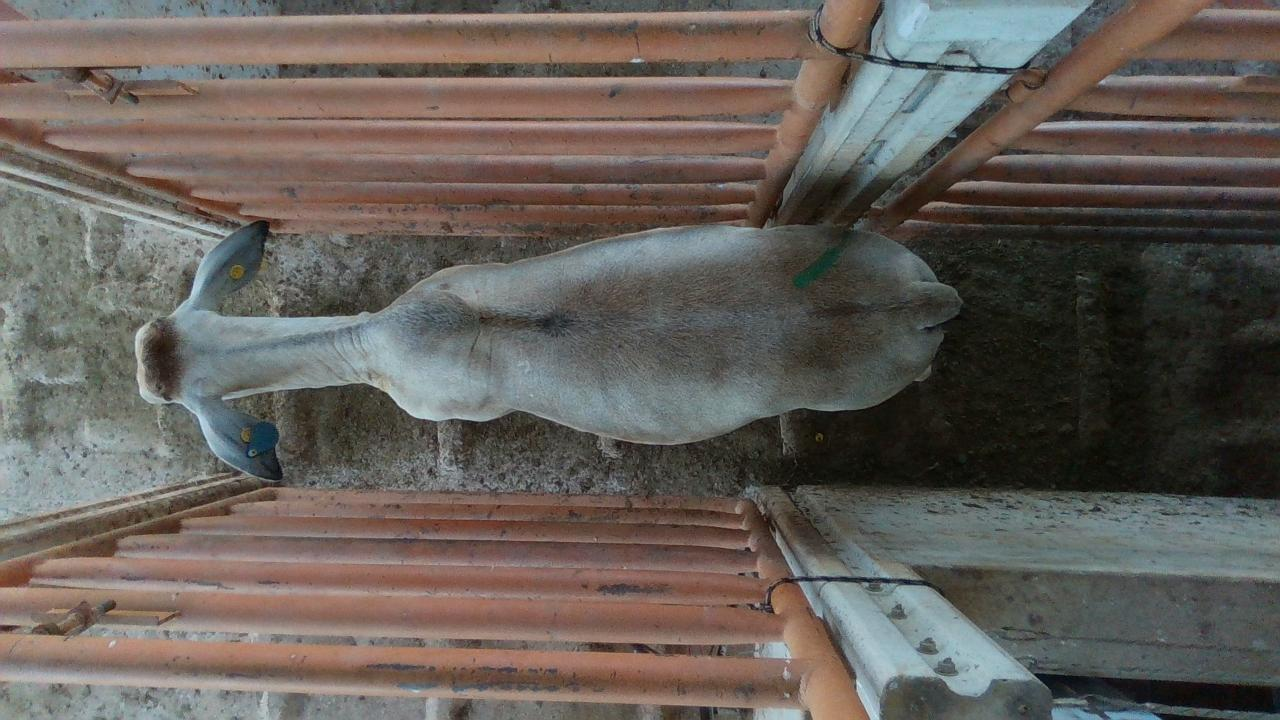cattle: (133, 216, 963, 481)
